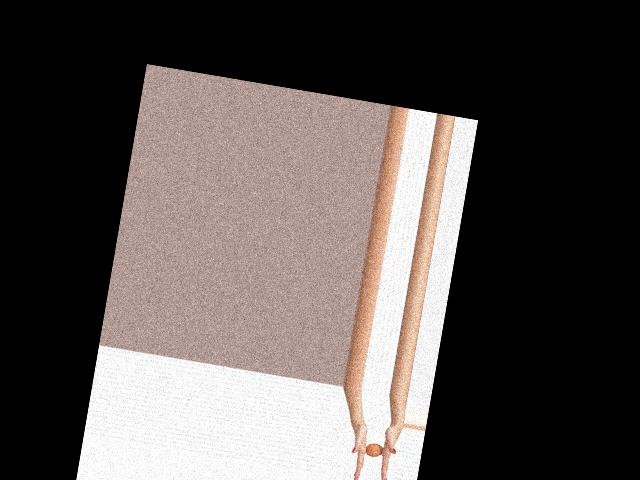egg: (364, 441, 383, 457)
